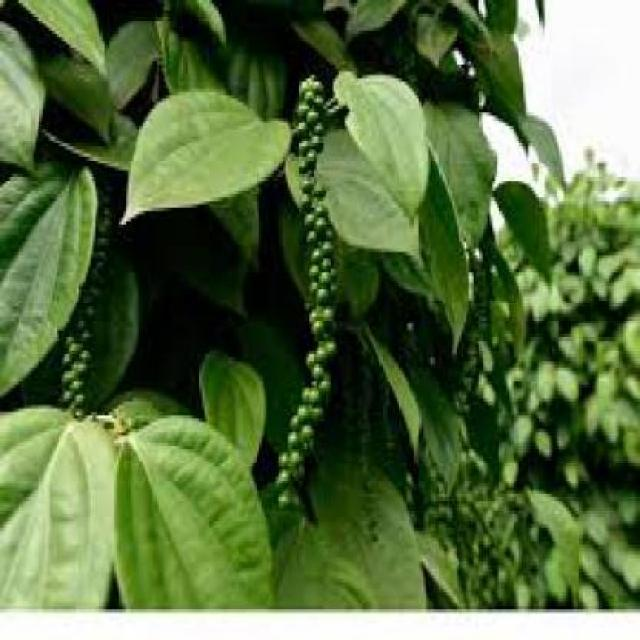UNRIPE: (276, 72, 338, 515), (57, 183, 121, 412), (460, 255, 486, 392)
